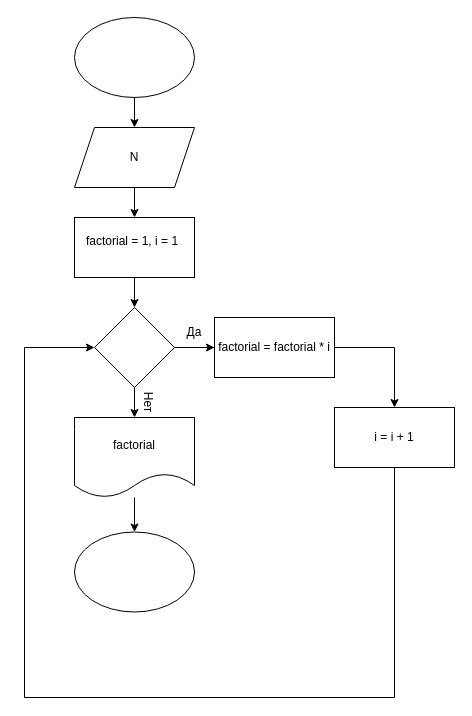
This 472x716 diagram has some shape labels left out. The centre of each missing label's shape, as x and y in pixels:
"i ≤ N" belongs at point (134, 347).
"Конец" belongs at point (134, 571).
"Начало" belongs at point (134, 57).
